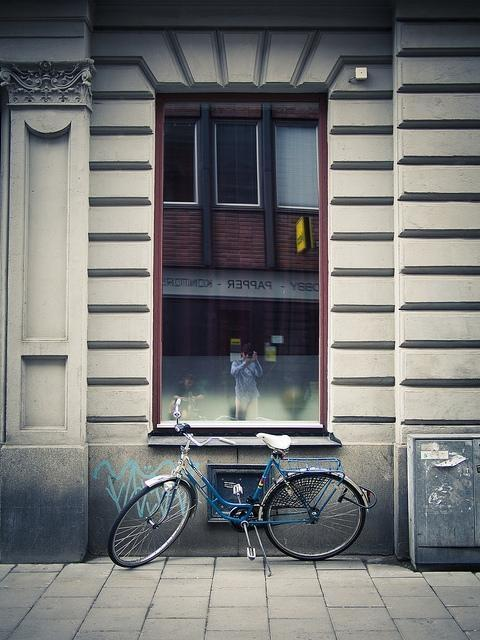bicycle: (106, 388, 374, 565)
